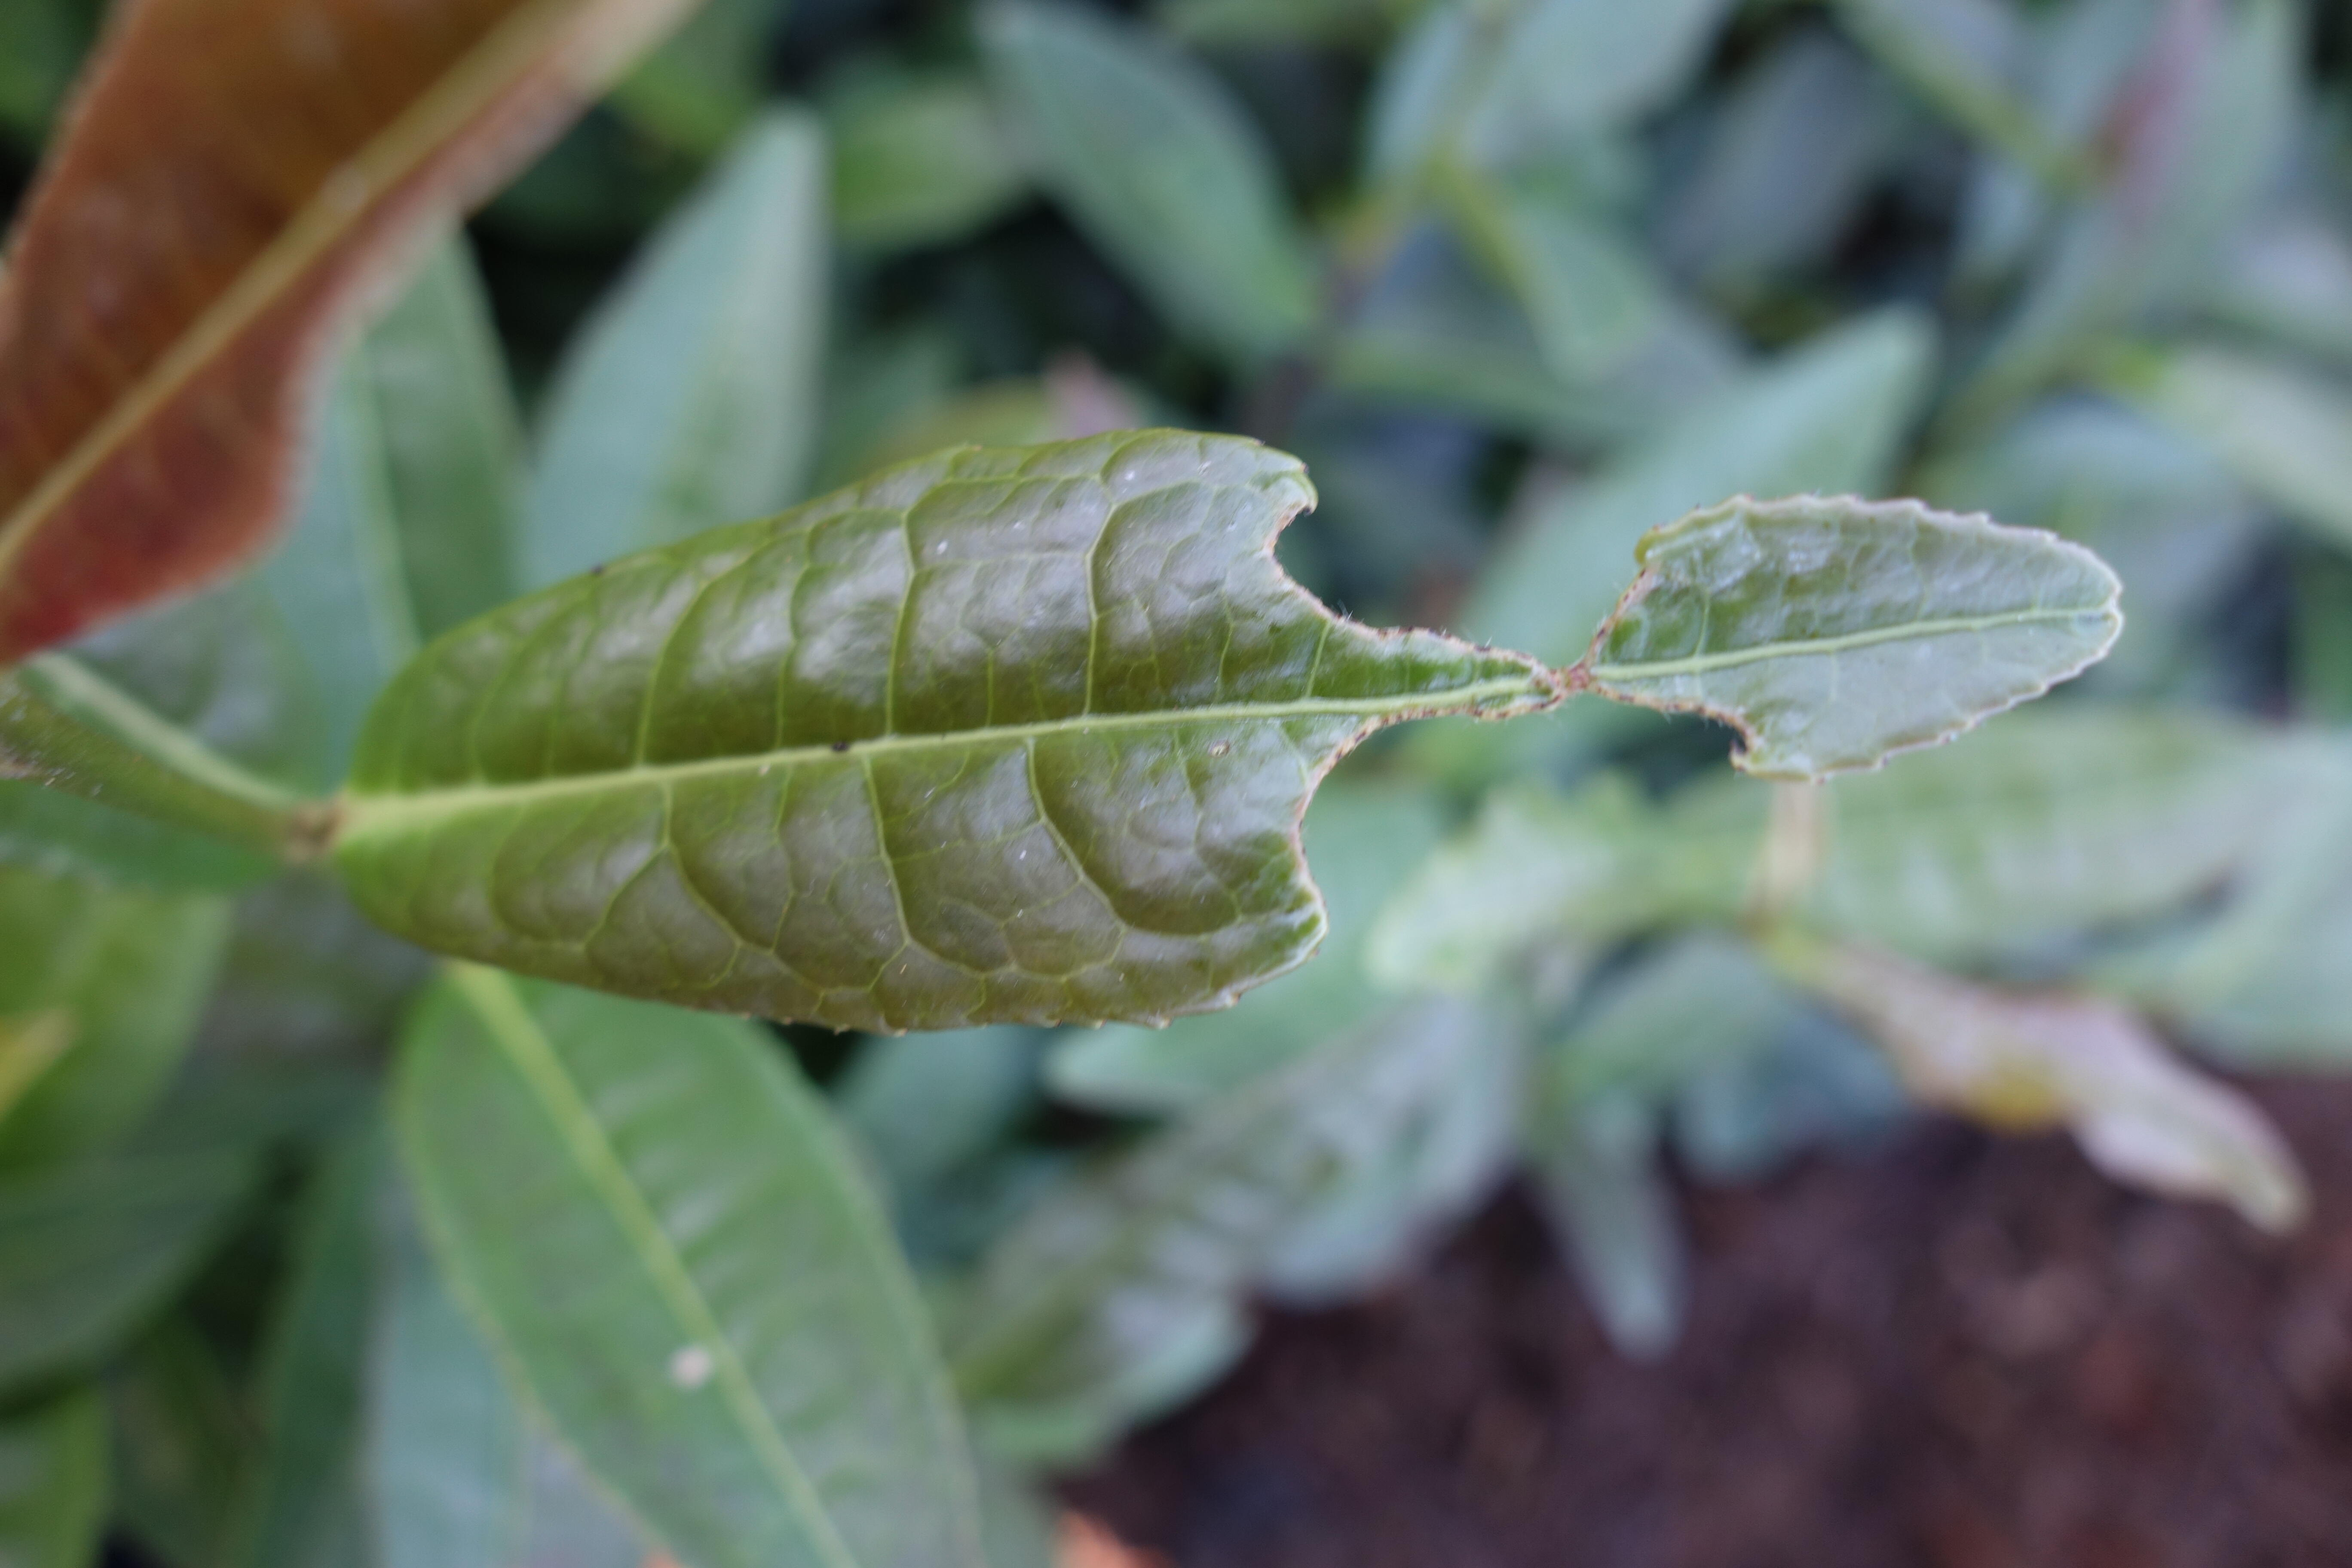chihuo_high: (310, 418, 2131, 1029)
